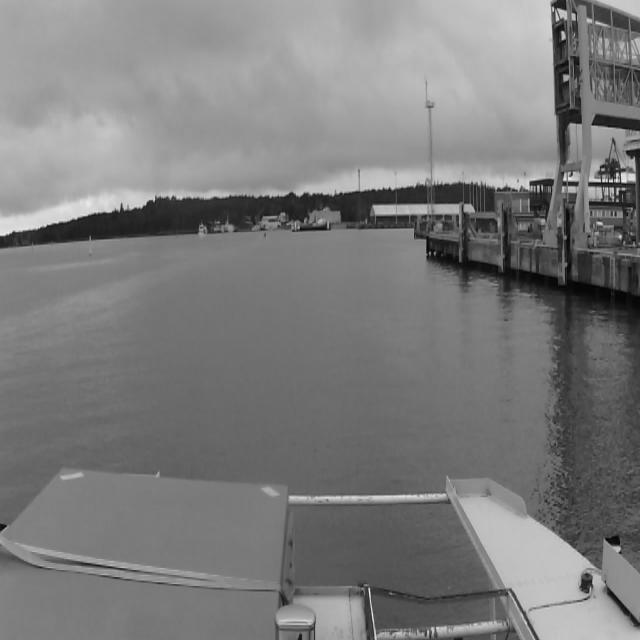buoy: (88, 234, 92, 255), (32, 242, 34, 253)
ship: (198, 220, 208, 242), (263, 232, 267, 239)
